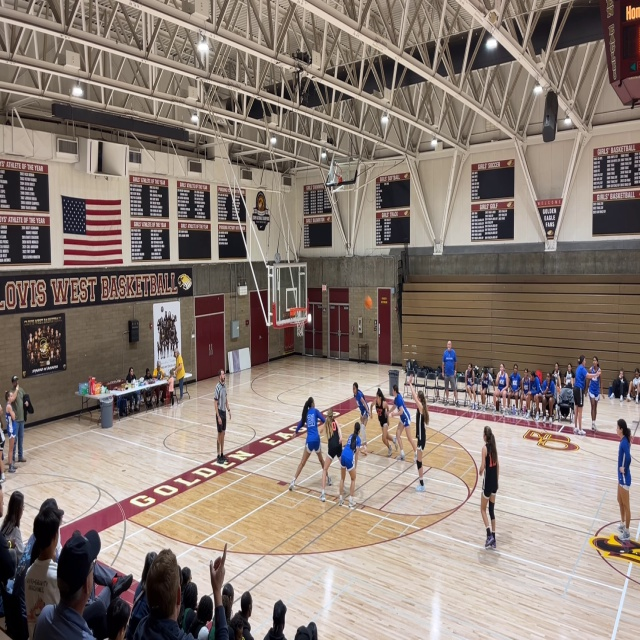Basketball: (364, 296, 372, 309)
